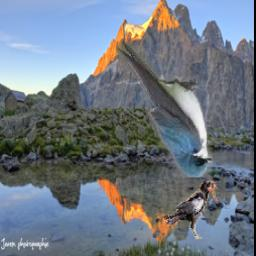Crow: (165, 179, 221, 240)
Swallow: (116, 43, 213, 179)
